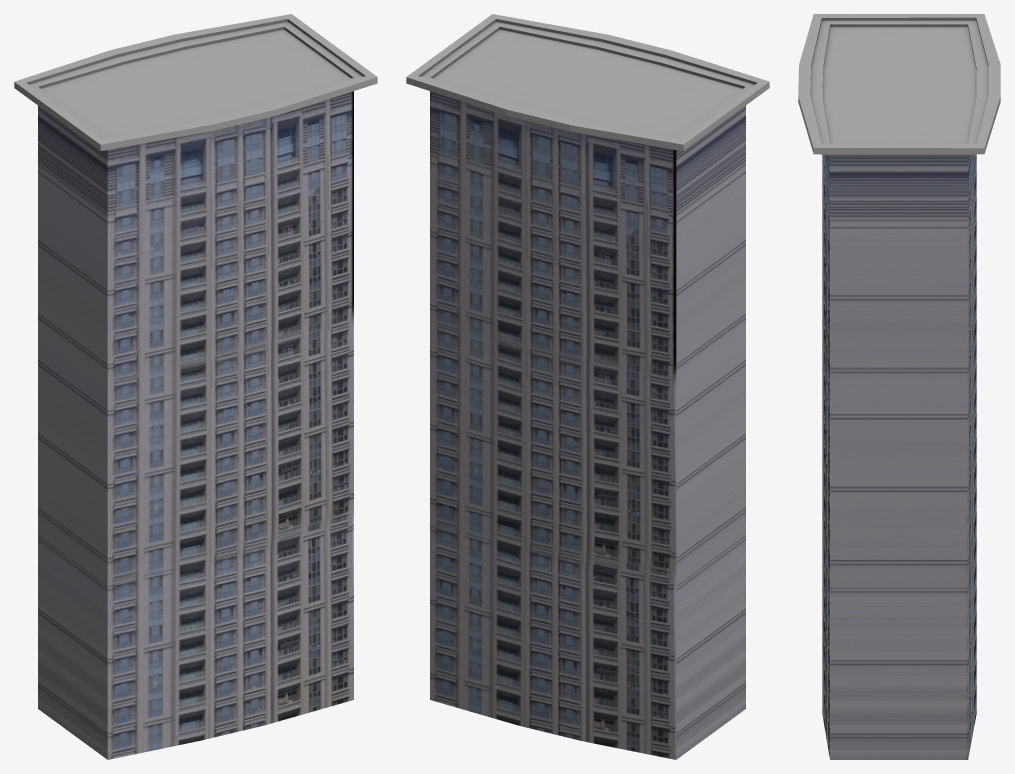
File: BLD-Type-1.FBX
3 renders of one model, left to right at view 1: azimuth 30°, elevation 25°; view 2: azimuth 150°, elevation 25°; view 3: azimuth 270°, elevation 25°, orthographic.
Visible parts, largest first — view 1: BLD-Type-1-004; view 2: BLD-Type-1-004; view 3: BLD-Type-1-004.
Boxes of the visible parts, x1,y1,x2,y2 form: BLD-Type-1-004: (14,14,377,759); BLD-Type-1-004: (406,14,769,759); BLD-Type-1-004: (798,14,1000,759).
Size of the model in its own units: 25.53 by 54.95 by 16.29.
